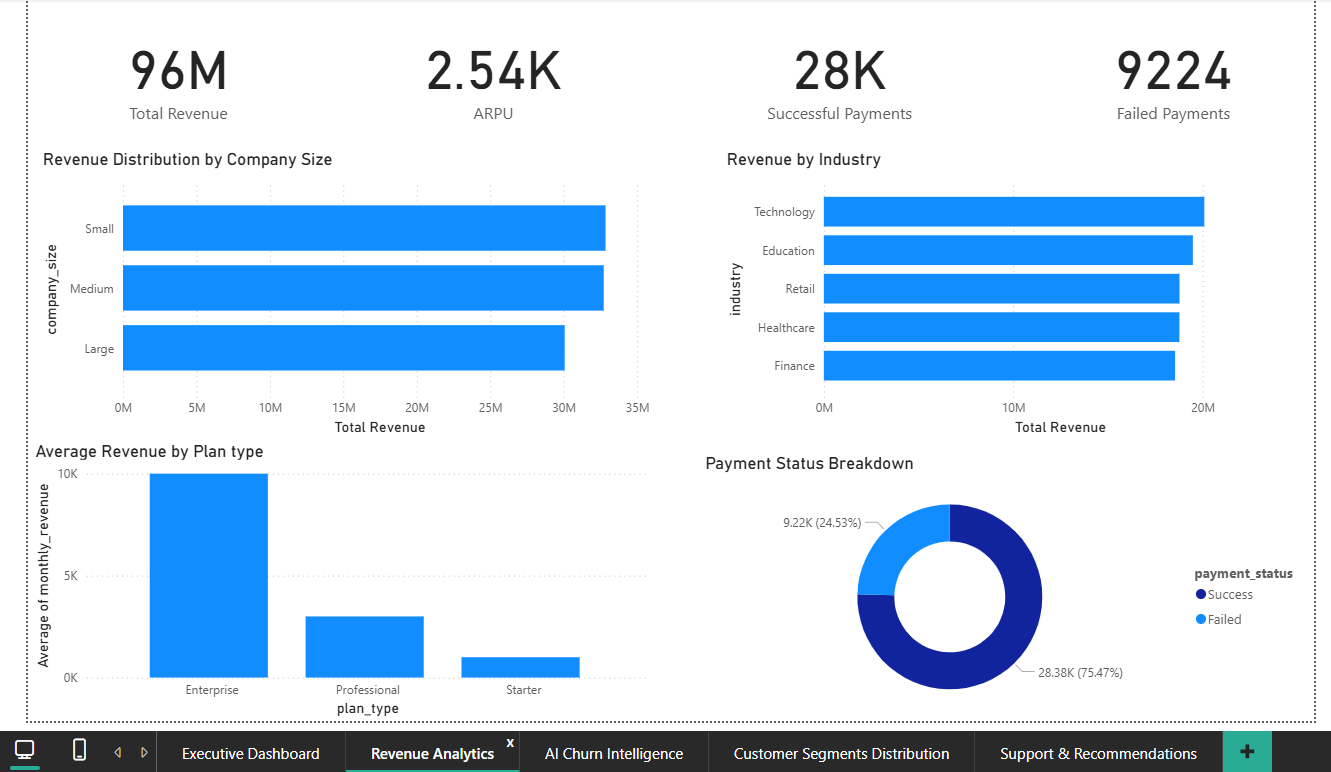

The page's visual inventory and layout, read from the dashboard file:
{"tool":"powerbi","page":{"name":"Revenue Analytics","canvas":[1280,720],"ordinal":1},"visuals":[{"type":"card","fields":{"Values":["fact_payments.Total Revenue"]},"box":[9.6,0,279.9,150.9],"z":0},{"type":"card","fields":{"Values":["fact_subscriptions.ARPU"]},"box":[323.8,0,279.9,150.9],"z":1000},{"type":"card","fields":{"Values":["fact_payments.Successful Payments"]},"box":[668.3,0,279.9,150.9],"z":2000},{"type":"card","fields":{"Values":["fact_payments.Failed Payments"]},"box":[1000.3,0,279.9,150.9],"z":3000},{"type":"donutChart","title":"Payment Status Breakdown","fields":{"Category":["fact_payments.payment_status"],"Y":["CountNonNull(fact_payments.payment_id)"]},"box":[669.6,452.8,610.6,267.6],"z":4000},{"type":"clusteredBarChart","title":"Revenue by Industry","fields":{"Y":["fact_payments.Total Revenue"],"Category":["Dim_users.industry"]},"box":[690.2,150.9,590.1,289.5],"z":5000},{"type":"clusteredBarChart","title":"Revenue Distribution by Company Size","fields":{"Y":["fact_payments.Total Revenue"],"Category":["Dim_users.company_size"]},"box":[9.6,150.9,613.4,289.5],"z":6000},{"type":"clusteredColumnChart","title":"Average Revenue by Plan type","fields":{"Category":["fact_subscriptions.plan_type"],"Y":["Avg(fact_subscriptions.monthly_revenue)"]},"box":[2.7,440.5,620.2,279.9],"z":7000}]}

Visuals, with their boxes on the page's 1280x720 design canvas (x1, y1, x2, y2). These are canvas units, not pixel positions in the 1331x772 screenshot, which may show the page scaled, cropped or inside an application window:
card - fact_payments.Total Revenue: 10/0/290/151
card - fact_subscriptions.ARPU: 324/0/604/151
card - fact_payments.Successful Payments: 668/0/948/151
card - fact_payments.Failed Payments: 1000/0/1280/151
"Payment Status Breakdown" donutChart: 670/453/1280/720
"Revenue by Industry" clusteredBarChart: 690/151/1280/440
"Revenue Distribution by Company Size" clusteredBarChart: 10/151/623/440
"Average Revenue by Plan type" clusteredColumnChart: 3/440/623/720
